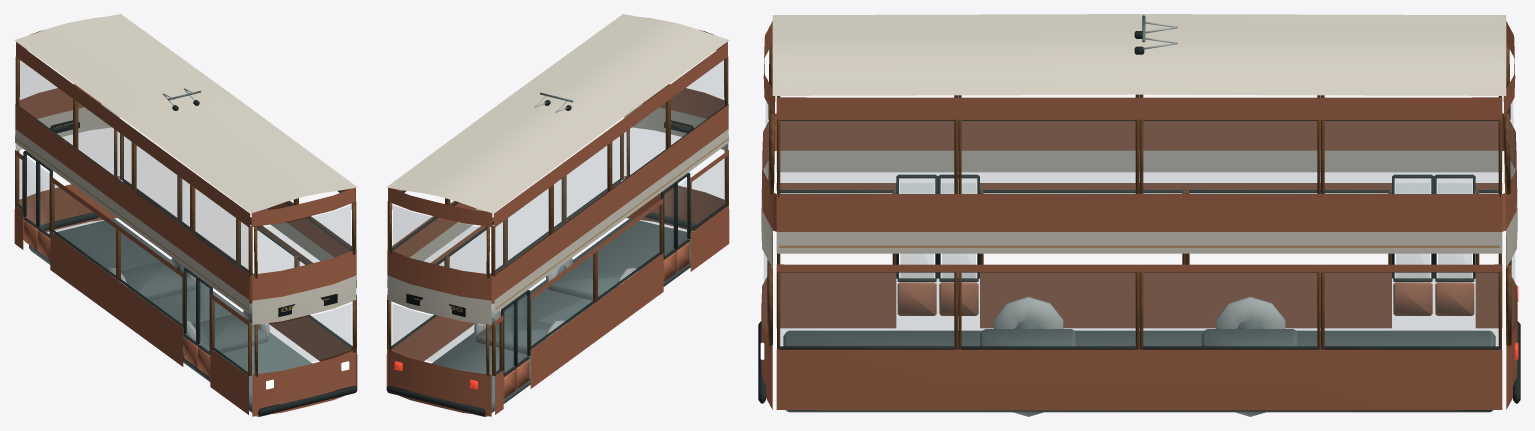
The model's file is vesper-t9-lod2.glb.
3 views of the same model, side by side, from view 1: azimuth 30°, elevation 25°; view 2: azimuth 150°, elevation 25°; view 3: azimuth 270°, elevation 25° (orthographic). The views are drawn at different scales.
Parts seen in each view (by area): view 1: LOD2-tram-detail-2-paintFar-batch, LOD2-tram-detail-2-pearl-batch, LOD2-tram-detail-2-glass-batch, LOD2-tram-detail-2-steel-batch, LOD2-tram-detail-2-wood-batch, LOD2-tram-detail-2-dark-batch, LOD2-tram-door-0-port-leaf-1-glass-batch, LOD2-tram-door-1-port-leaf-1-glass-batch, LOD2-tram-door-1-port-leaf--1-glass-batch, LOD2-tram-door-0-port-leaf--1-glass-batch, LOD2-tram-detail-2-display-batch, LOD2-tram-door-1-port-leaf-1-dark-batch (+4 smaller); view 2: LOD2-tram-detail-2-paintFar-batch, LOD2-tram-detail-2-pearl-batch, LOD2-tram-detail-2-glass-batch, LOD2-tram-detail-2-steel-batch, LOD2-tram-detail-2-wood-batch, LOD2-tram-detail-2-dark-batch, LOD2-tram-door-1-port-leaf--1-glass-batch, LOD2-tram-door-0-port-leaf--1-glass-batch, LOD2-tram-door-0-port-leaf-1-glass-batch, LOD2-tram-door-1-port-leaf-1-glass-batch, LOD2-tram-detail-2-display-batch, LOD2-tram-door-0-port-leaf--1-dark-batch (+4 smaller); view 3: LOD2-tram-detail-2-paintFar-batch, LOD2-tram-detail-2-glass-batch, LOD2-tram-detail-2-pearl-batch, LOD2-tram-detail-2-steel-batch, LOD2-tram-detail-2-wood-batch, LOD2-tram-detail-2-dark-batch, LOD2-tram-detail-2-livery-batch, LOD2-wheel-front--1-metal-batch, LOD2-wheel-rear--1-metal-batch, LOD2-tram-door-1-port-leaf-1-paintFar-batch, LOD2-tram-door-0-port-leaf--1-paintFar-batch, LOD2-tram-door-0-port-leaf-1-paintFar-batch (+5 smaller).
Part boxes in pixels (left/top/right/bottom): LOD2-tram-detail-2-paintFar-batch: left=14, top=17, right=357, bottom=416; LOD2-tram-detail-2-pearl-batch: left=14, top=14, right=357, bottom=325; LOD2-tram-detail-2-glass-batch: left=18, top=60, right=351, bottom=372; LOD2-tram-detail-2-steel-batch: left=29, top=90, right=311, bottom=416; LOD2-tram-detail-2-wood-batch: left=15, top=56, right=356, bottom=376; LOD2-tram-detail-2-dark-batch: left=16, top=100, right=357, bottom=415; LOD2-tram-door-0-port-leaf-1-glass-batch: left=39, top=167, right=49, bottom=234; LOD2-tram-door-1-port-leaf-1-glass-batch: left=199, top=284, right=209, bottom=351; LOD2-tram-door-1-port-leaf--1-glass-batch: left=186, top=274, right=195, bottom=341; LOD2-tram-door-0-port-leaf--1-glass-batch: left=26, top=157, right=35, bottom=224; LOD2-tram-detail-2-display-batch: left=50, top=120, right=337, bottom=317; LOD2-tram-door-1-port-leaf-1-dark-batch: left=197, top=278, right=212, bottom=354; LOD2-tram-detail-2-paintFar-batch: left=386, top=17, right=729, bottom=416; LOD2-tram-detail-2-pearl-batch: left=386, top=14, right=729, bottom=325; LOD2-tram-detail-2-glass-batch: left=392, top=60, right=725, bottom=372; LOD2-tram-detail-2-steel-batch: left=432, top=92, right=690, bottom=416; LOD2-tram-detail-2-wood-batch: left=387, top=56, right=728, bottom=376; LOD2-tram-detail-2-dark-batch: left=386, top=100, right=727, bottom=415; LOD2-tram-door-1-port-leaf--1-glass-batch: left=664, top=189, right=674, bottom=256; LOD2-tram-door-0-port-leaf--1-glass-batch: left=504, top=306, right=514, bottom=373; LOD2-tram-door-0-port-leaf-1-glass-batch: left=518, top=296, right=527, bottom=363; LOD2-tram-door-1-port-leaf-1-glass-batch: left=678, top=179, right=687, bottom=246; LOD2-tram-detail-2-display-batch: left=406, top=120, right=693, bottom=317; LOD2-tram-door-0-port-leaf--1-dark-batch: left=501, top=299, right=516, bottom=376; LOD2-tram-detail-2-paintFar-batch: left=761, top=21, right=1517, bottom=410; LOD2-tram-detail-2-glass-batch: left=764, top=102, right=1514, bottom=345; LOD2-tram-detail-2-pearl-batch: left=761, top=14, right=1517, bottom=267; LOD2-tram-detail-2-steel-batch: left=783, top=15, right=1495, bottom=412; LOD2-tram-detail-2-wood-batch: left=767, top=43, right=1511, bottom=349; LOD2-tram-detail-2-dark-batch: left=758, top=31, right=1520, bottom=403; LOD2-tram-detail-2-livery-batch: left=779, top=245, right=1499, bottom=247; LOD2-wheel-front--1-metal-batch: left=993, top=296, right=1063, bottom=328; LOD2-wheel-rear--1-metal-batch: left=1215, top=296, right=1285, bottom=328; LOD2-tram-door-1-port-leaf-1-paintFar-batch: left=897, top=282, right=936, bottom=315; LOD2-tram-door-0-port-leaf--1-paintFar-batch: left=1435, top=282, right=1474, bottom=315; LOD2-tram-door-0-port-leaf-1-paintFar-batch: left=1393, top=282, right=1432, bottom=315.
Bounding box in the file's own units: 2.27 × 4.69 × 8.93.
11 materials, 2 textured.
